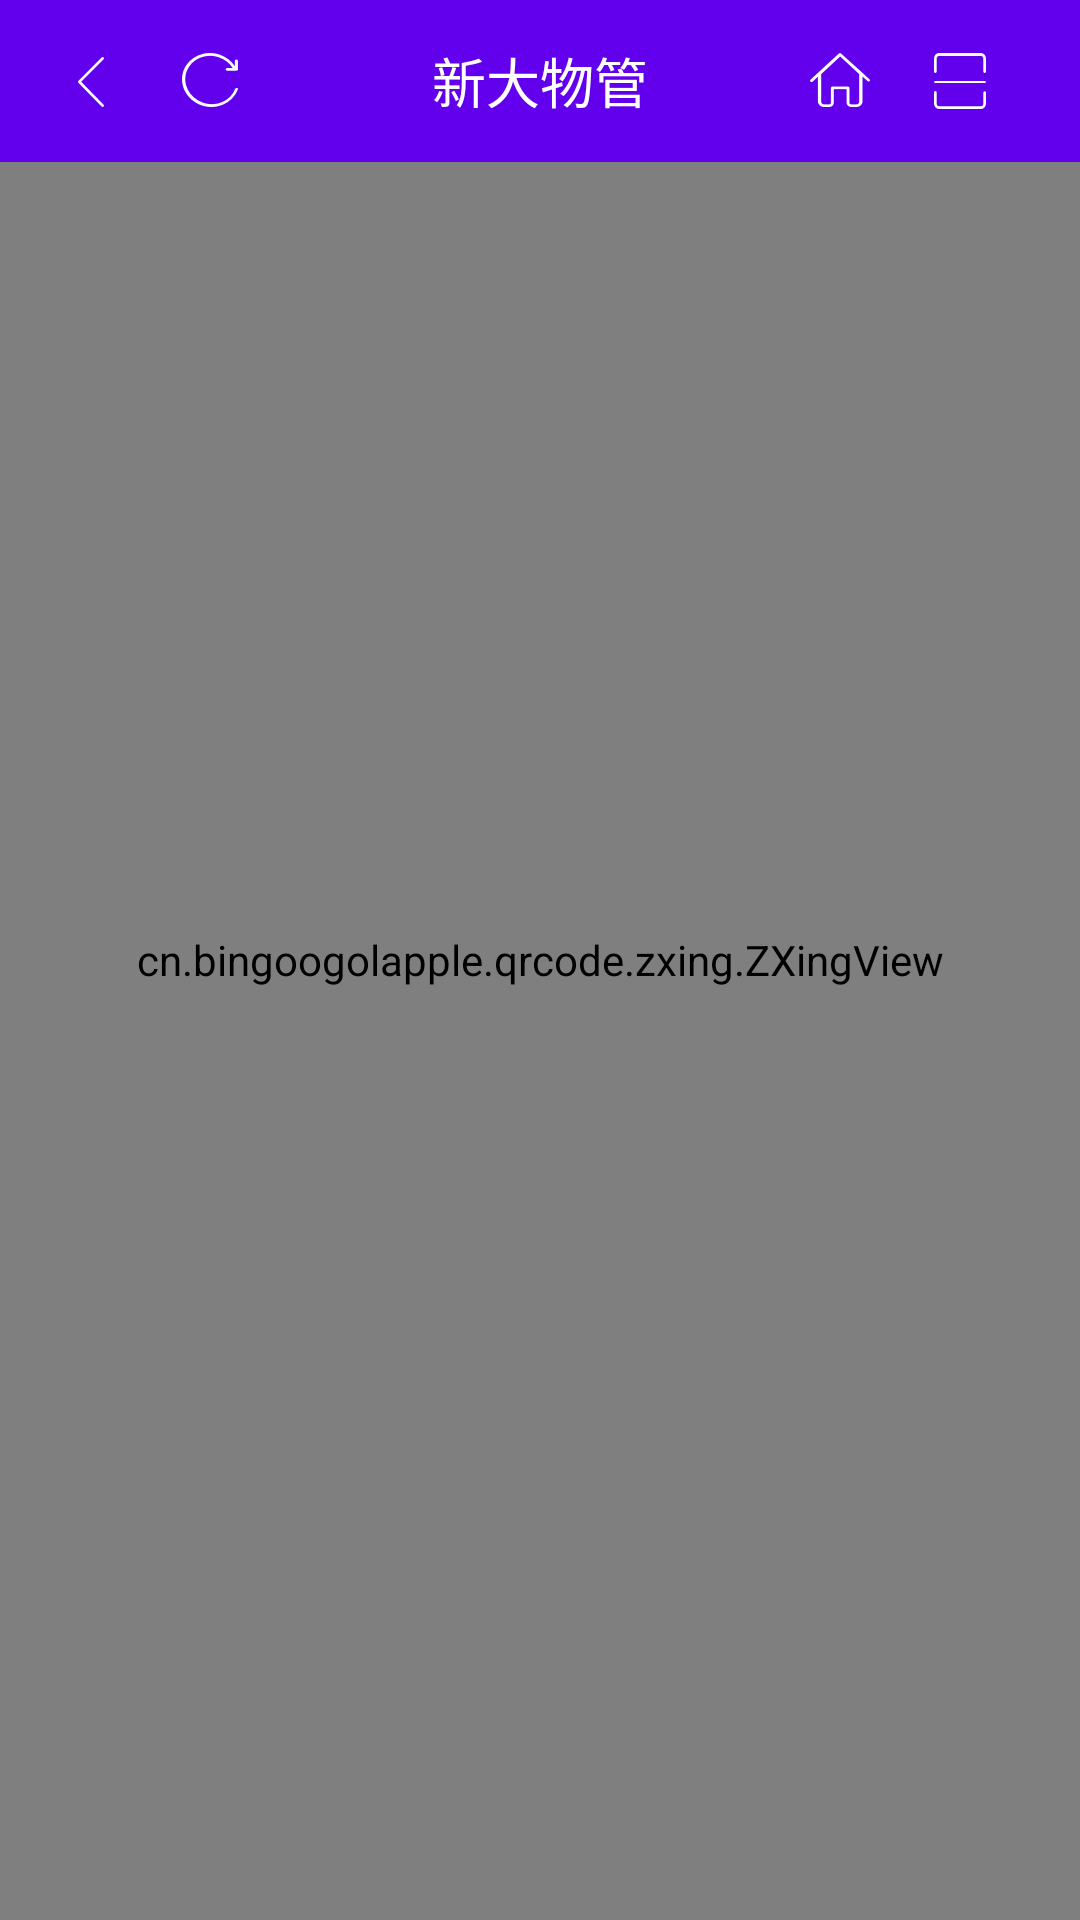

Icons on this 1080*1920 Android screen, each with the point to tap as [x,y]:
back: [91,82]
home: [840,80]
refresh: [210,80]
scan: [960,81]
